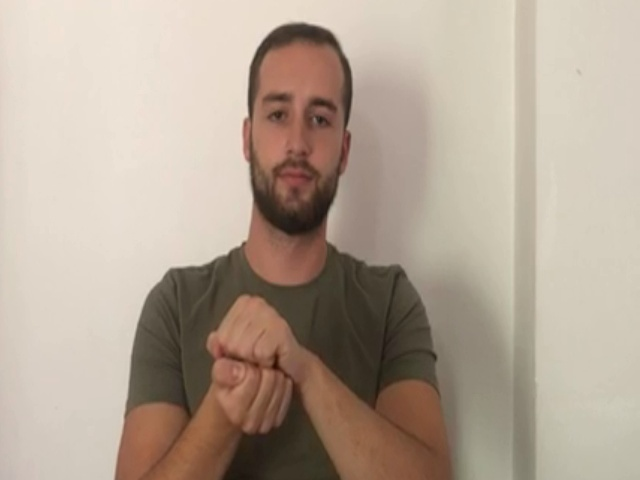Istorija: (203, 293, 299, 438)
